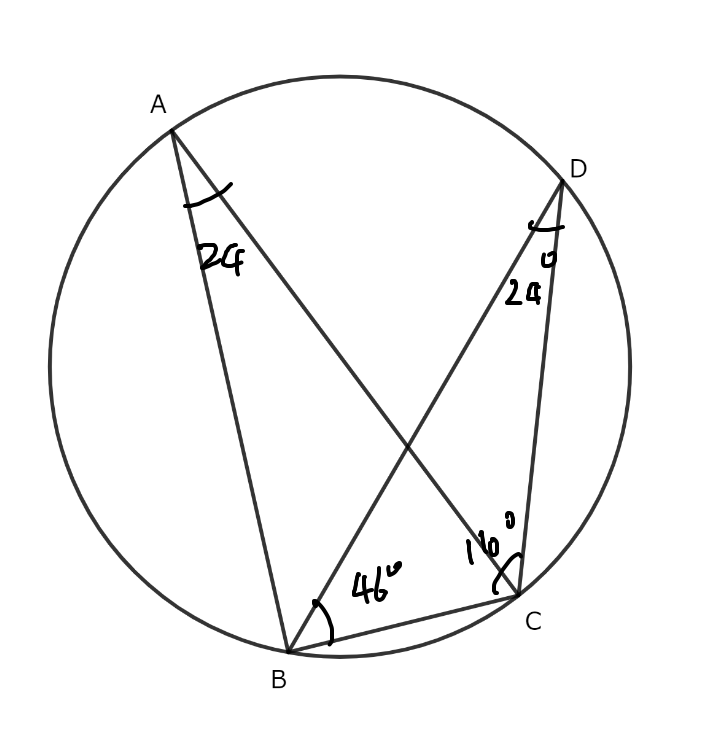Angle_Scurve: (483, 551, 529, 599), (181, 180, 237, 211), (308, 597, 339, 653), (525, 212, 568, 238)
